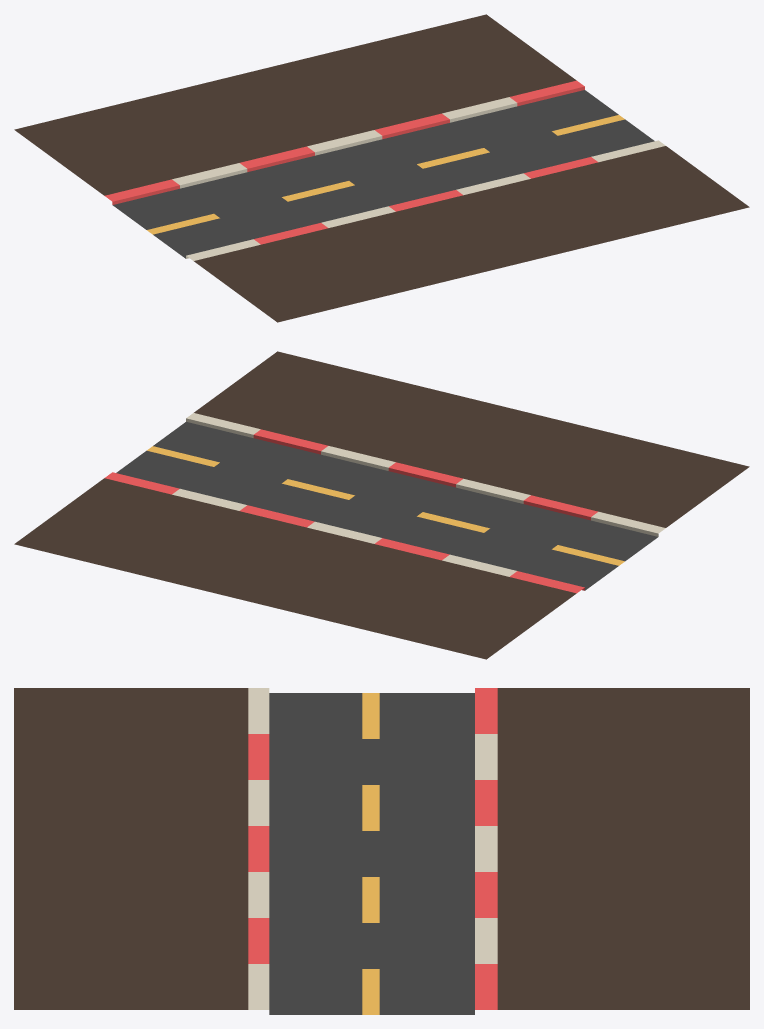
The model's file is trig.fbx.
The picture shows the model from 3 angles, top to bottom: view 1: azimuth 30°, elevation 25°; view 2: azimuth 150°, elevation 25°; view 3: azimuth 270°, elevation 25°; orthographic projection. The views are drawn at different scales.
Visible parts, largest first — view 1: tri9; view 2: tri9; view 3: tri9.
Part boxes in pixels (x1,y1,x2,y2): tri9: (14,14,749,322); tri9: (14,351,749,659); tri9: (14,688,749,1014).
Bounding box in the file's own units: 1112 × 7.63 × 1074.
